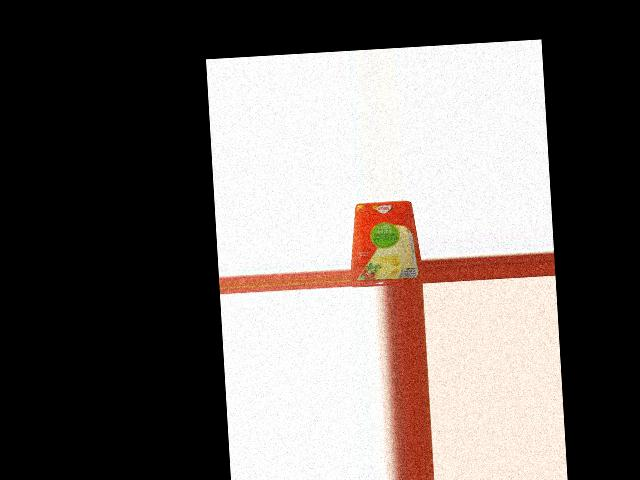cheese: (346, 200, 421, 288)
